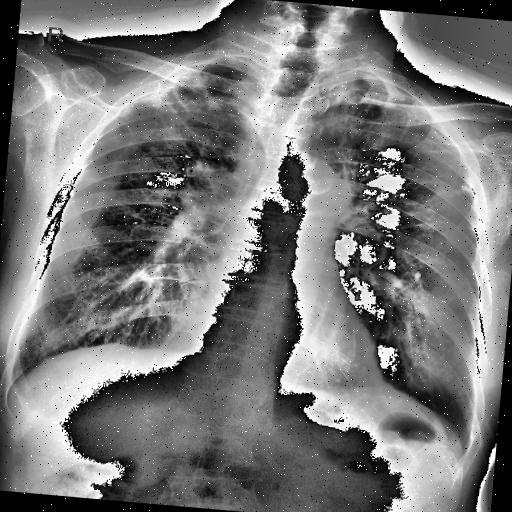0- Aortic enlargement: (277, 152, 336, 204)
11- Pleural thickening: (124, 44, 218, 105), (134, 52, 210, 108), (346, 68, 416, 102), (338, 67, 418, 95)
13- Pulmonary fibrosis: (316, 82, 480, 235), (87, 70, 258, 200), (126, 64, 246, 139), (328, 83, 380, 169), (417, 130, 473, 201), (332, 81, 397, 128), (418, 178, 473, 214)
7- Lung Opacity: (134, 52, 208, 109)
